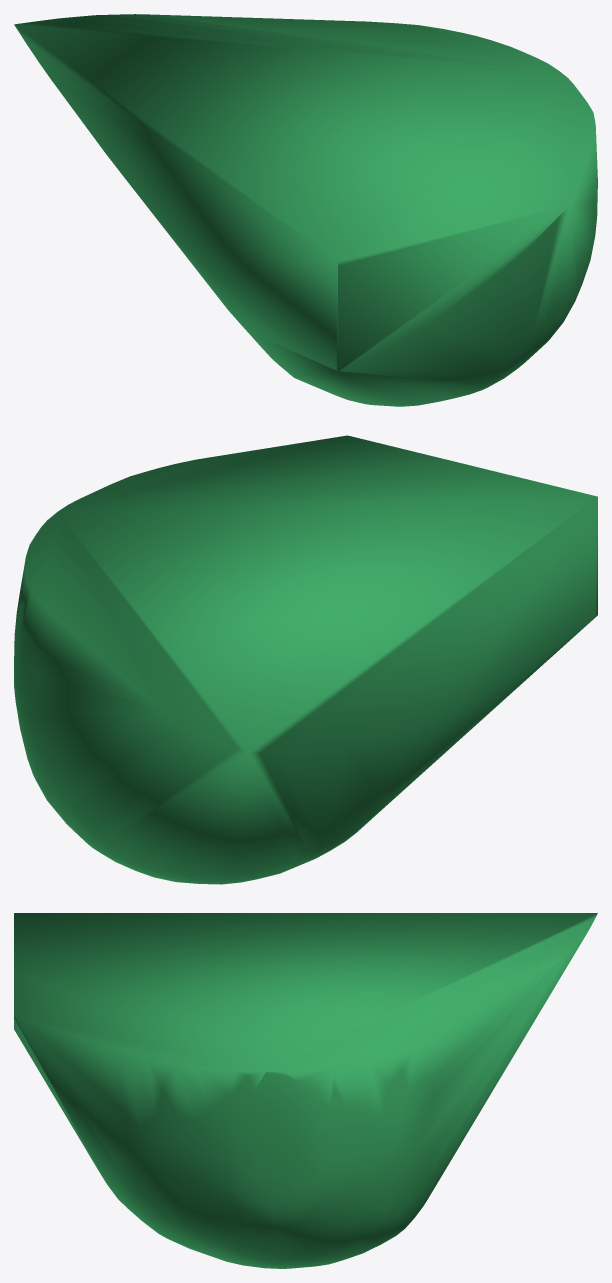
The model's file is bee_toy_1_coacd_single_link_urdf_convex_piece_10.obj.
3 views of the same model, one above another, from view 1: azimuth 30°, elevation 25°; view 2: azimuth 150°, elevation 25°; view 3: azimuth 270°, elevation 25° (orthographic). The views are drawn at different scales.
Size of the model in its own units: 0.063 by 0.0454 by 0.0963.
